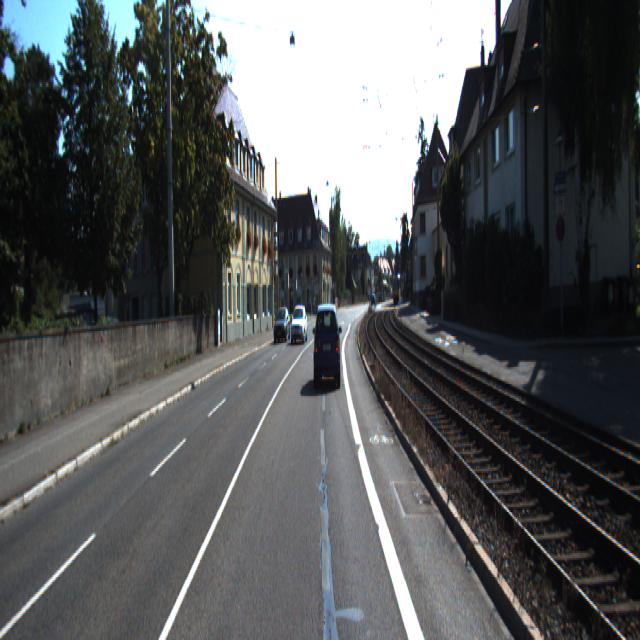Car: (312, 301, 341, 390), (290, 303, 308, 342), (274, 306, 291, 342)
